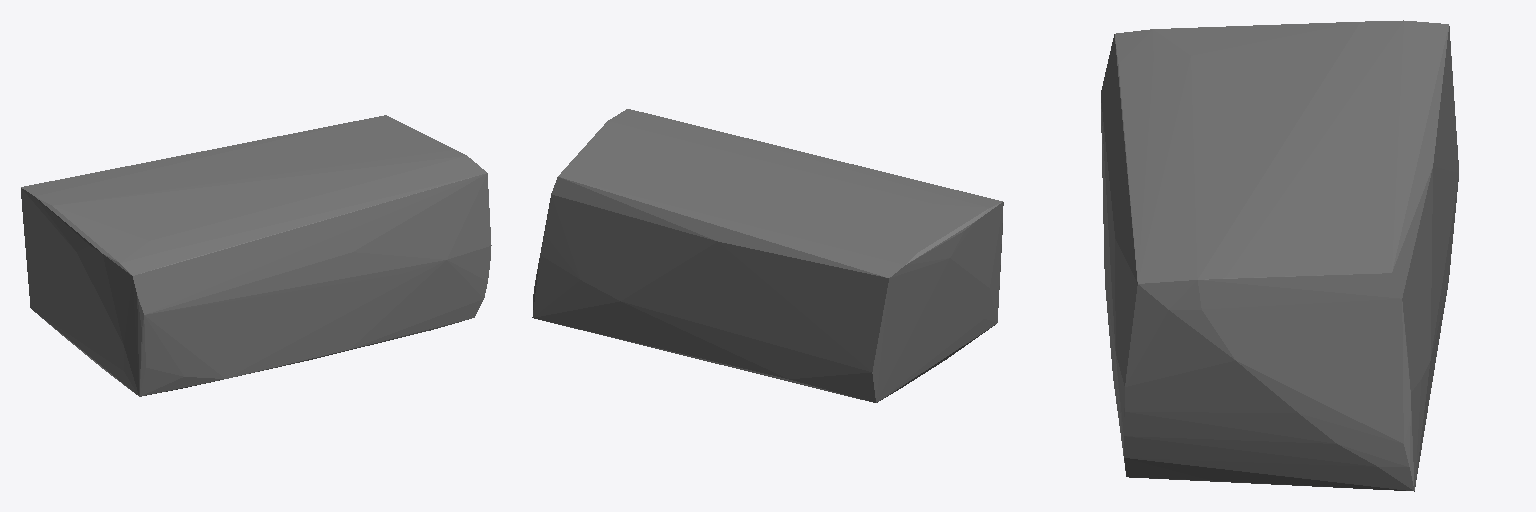
URDF robot description (5_246):
<?xml version="1.0"?>
<robot name="5_246">
  <link name="link">
    <contact>
      <lateral_friction value="0.6"/>
    </contact>
    <inertial>
      <origin xyz="-0.002145451419606769 0.0005675551919235555 -0.0002836144569898794" rpy="0 0 0"/>
      <mass value = "0.5959710202155142"/>
      <inertia ixx="0.00023770209180570915" ixy="-1.0370755240545647e-05" ixz="1.5767922234161462e-06" iyy="0.0006546557427861502" iyz="1.548057756012253e-06" izz="0.0007154928548648154" />
    </inertial>
    <visual name="visual">
      <geometry>
        <mesh filename="5_246.obj"/>
      </geometry>
      <material name="material">
        <color rgba="0.5133942247763241 0.5133942247763241 0.5133942247763241 1.0"/>
      </material>
    </visual>
    <collision name="collision">
      <geometry>
        <mesh filename="5_246.obj"/>
      </geometry>
    </collision>
  </link>
</robot>

--- What the picture shows (computed from the rendered views, not written in the file) ---
Views: 3 orthographic renders of the robot side by side, from view 1: azimuth 30°, elevation 25°; view 2: azimuth 150°, elevation 25°; view 3: azimuth 270°, elevation 25°.
Robot: 5_246 — 1 links, 0 joints (none); root link link; default pose: all joints at 0.
Visible links, largest first — view 1: link; view 2: link; view 3: link.
Link boxes in pixels (x1,y1,x2,y2): link: (21,115,491,396); link: (532,109,1003,402); link: (1101,20,1458,491).
Bounding box of the posed robot: 0.1096 × 0.0616 × 0.0399 m (x, y, z).
1 mesh visuals loaded from 1 distinct referenced files (1 OBJ).
